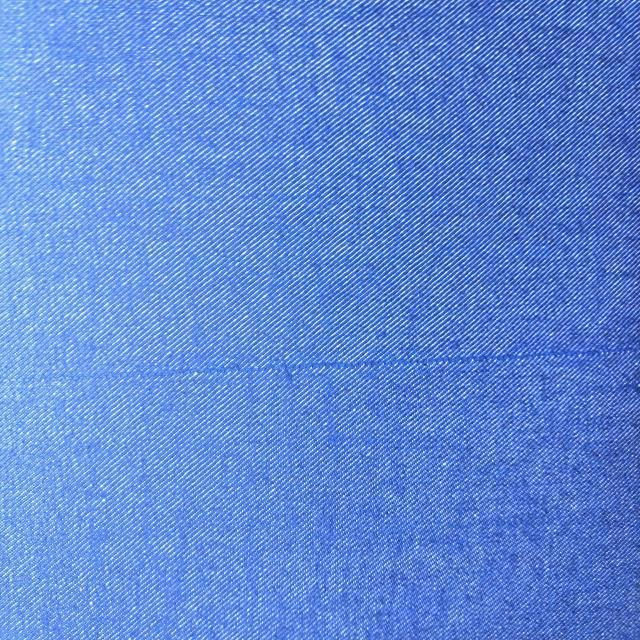Line: (40, 341, 630, 387)
